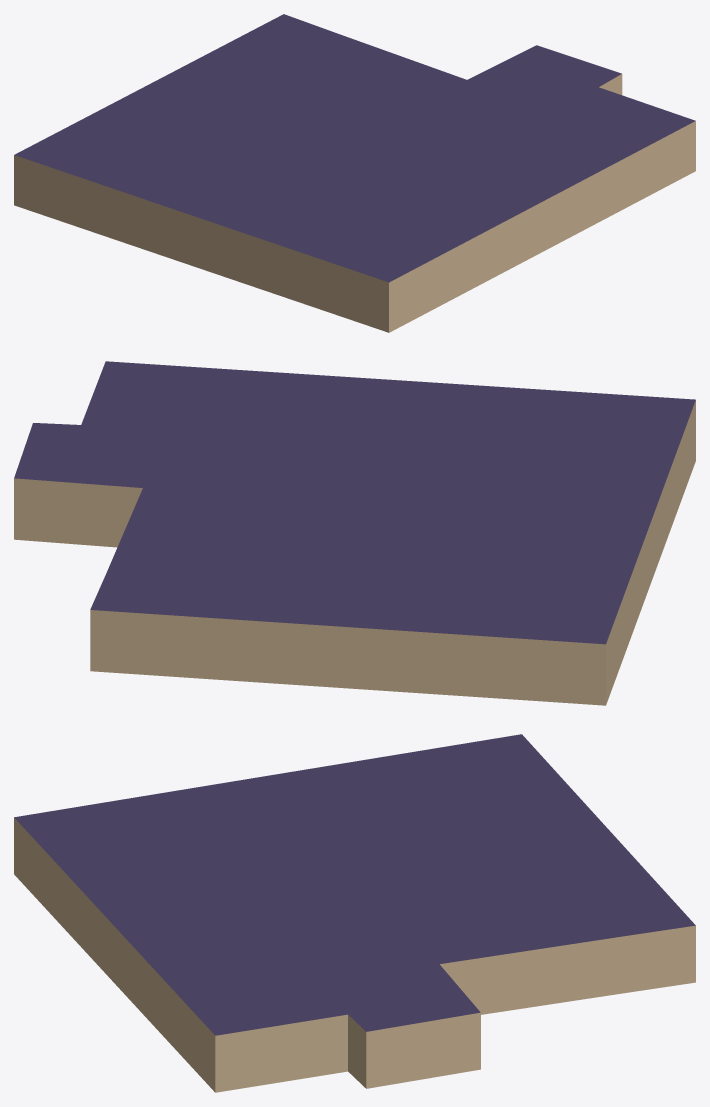
3 views of the same model, one above another, from view 1: azimuth 30°, elevation 25°; view 2: azimuth 150°, elevation 25°; view 3: azimuth 270°, elevation 25° (orthographic). The views are drawn at different scales.
Parts seen in each view (by area): view 1: campus/b-097-0; view 2: campus/b-097-0; view 3: campus/b-097-0.
Boxes of the visible parts, bbox=[...] form: campus/b-097-0: bbox=[14, 14, 695, 332]; campus/b-097-0: bbox=[14, 361, 695, 705]; campus/b-097-0: bbox=[14, 734, 695, 1092].
Bounding box in the file's own units: 34.06 × 3 × 32.54.
